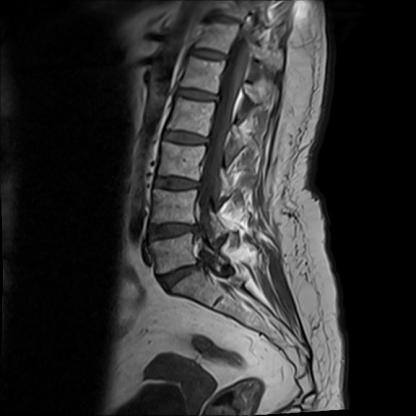Disc Bulgerotation: (156, 262, 206, 286), (147, 220, 195, 241)
